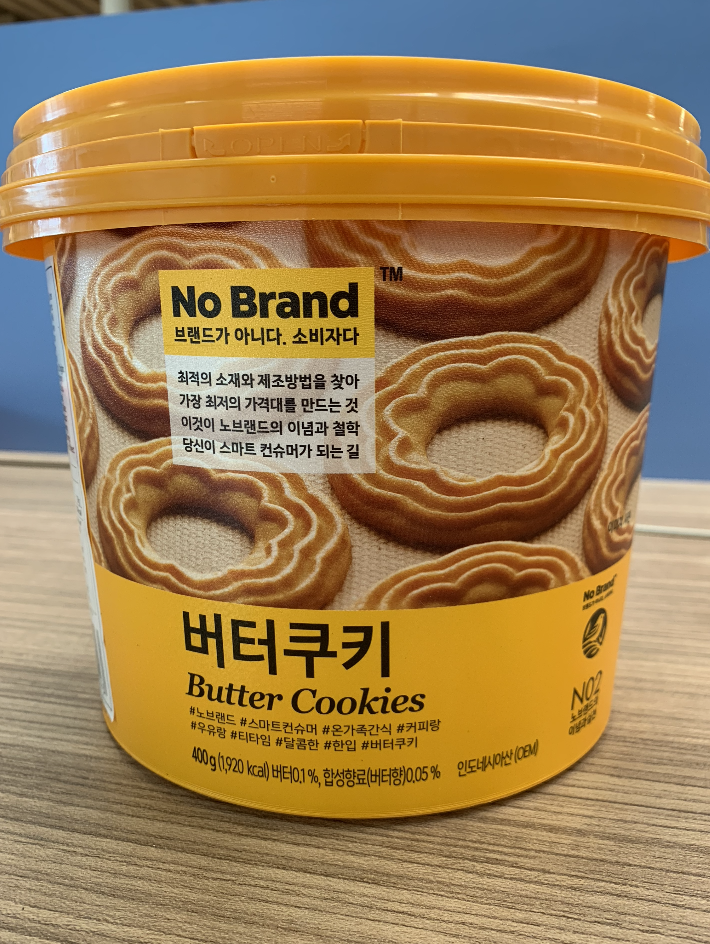cookies_400g-500g: (98, 241, 617, 782)
